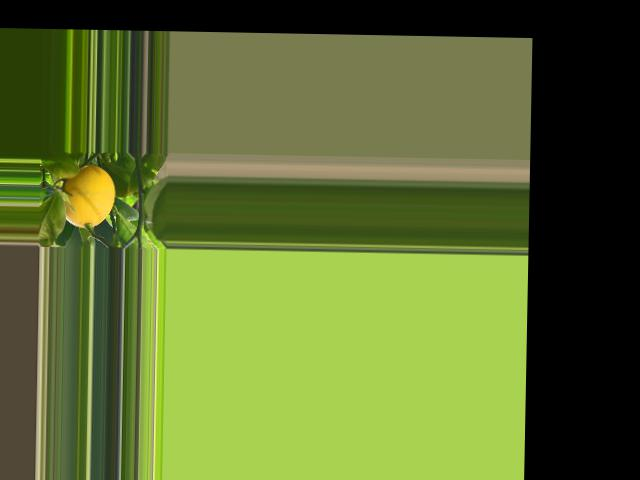lemon: (54, 166, 119, 233)
